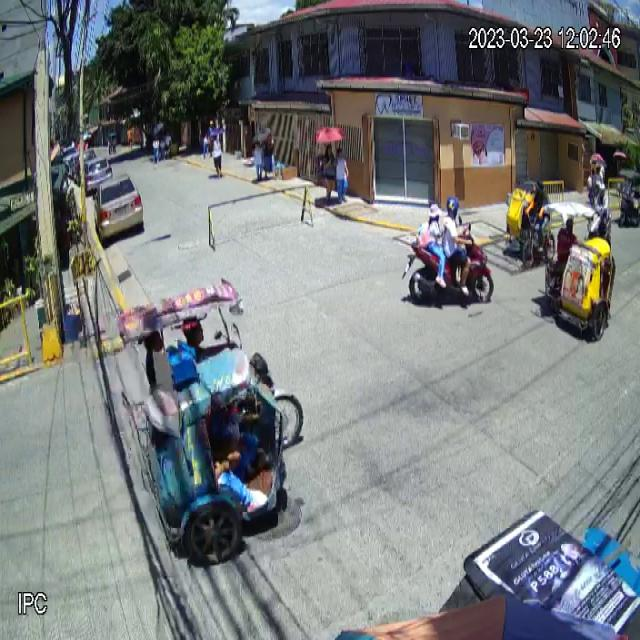Motorcycle: (401, 214, 494, 303)
Tricycle: (117, 282, 306, 566), (543, 200, 617, 342)
